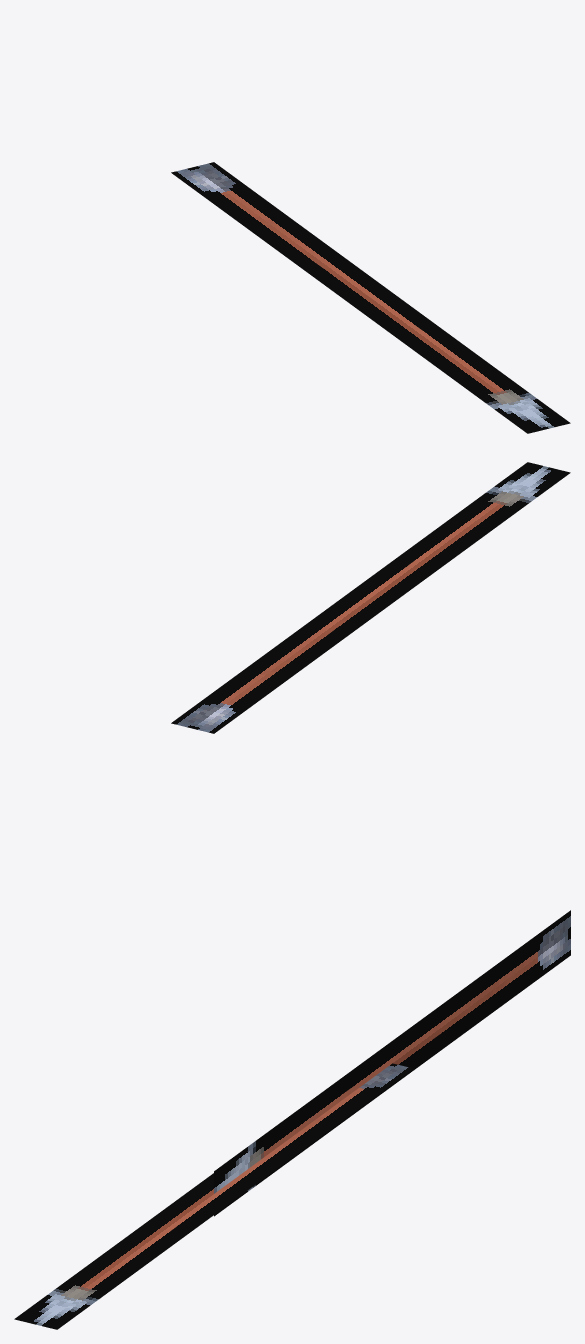
Rendered from arrow.glb.
3 views of the same model, one above another, from view 1: azimuth 30°, elevation 25°; view 2: azimuth 150°, elevation 25°; view 3: azimuth 330°, elevation 25° (orthographic).
Visible parts, largest first — view 1: Grid.001; view 2: Grid.001; view 3: Grid, Grid.001.
Part boxes in pixels (x1,y1,x2,y2): Grid.001: (171,162,570,433); Grid.001: (171,462,570,733); Grid: (214,910,570,1216); Grid.001: (14,1063,413,1329).
Size of the model in its own units: 0.042 by 0.042 by 0.9.
Materials: 1 (1 with a texture image).
